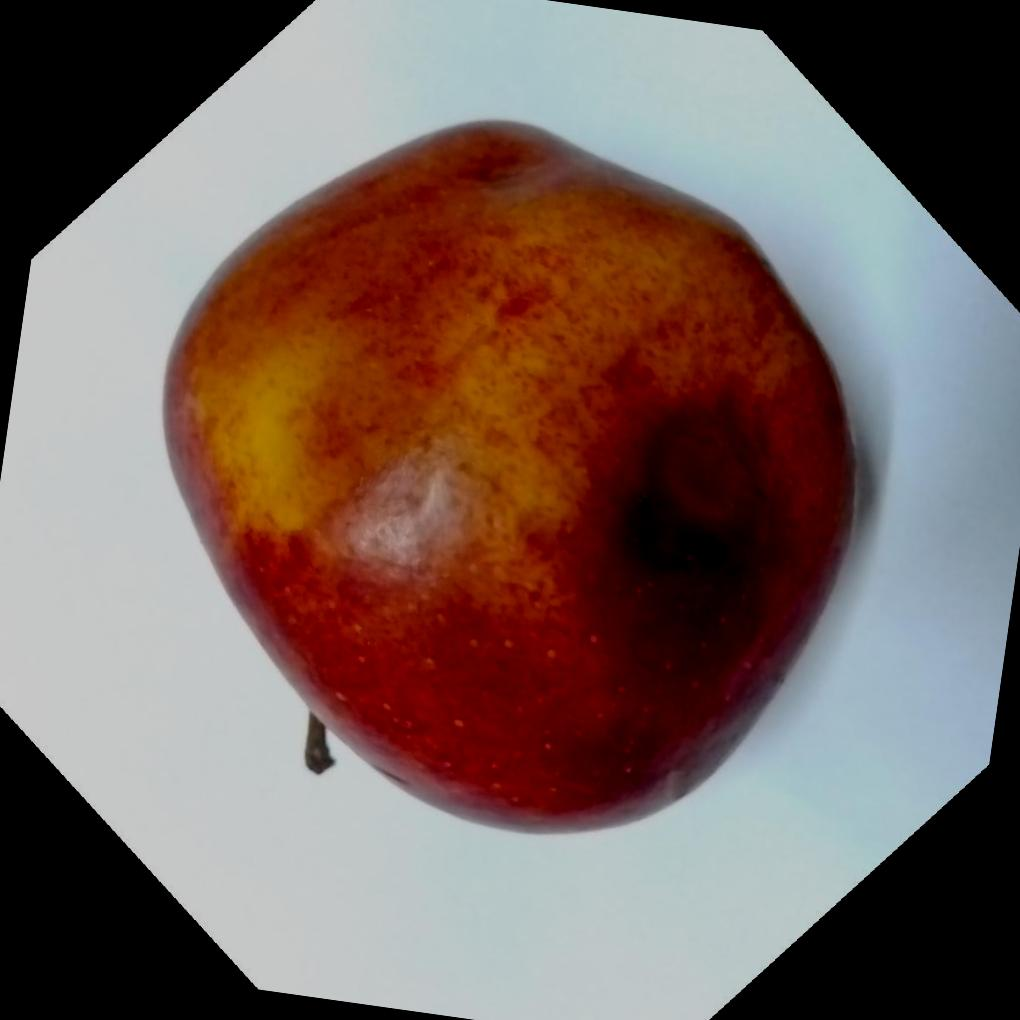FreshOrange: (157, 115, 859, 837)
